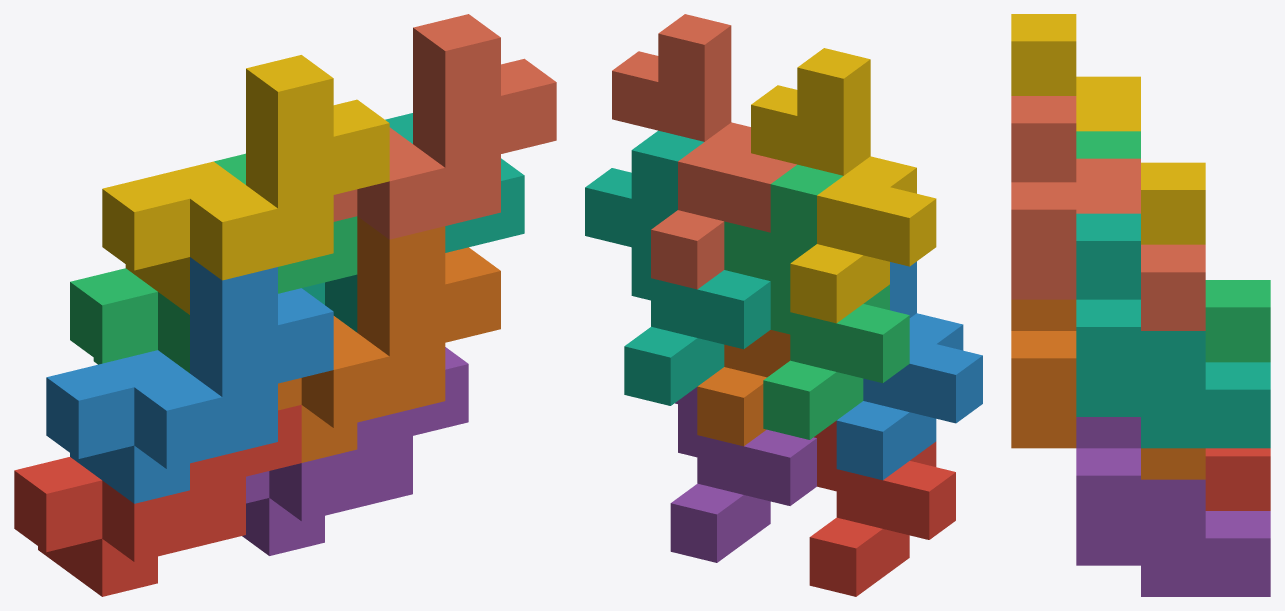
The model's file is tiling.obj.
3 renders of one model, left to right at view 1: azimuth 30°, elevation 25°; view 2: azimuth 150°, elevation 25°; view 3: azimuth 270°, elevation 25°, orthographic. The views are drawn at different scales.
Visible parts, largest first — view 1: copy_1_domain_2, copy_1_domain_4, copy_1_domain_6, copy_1_domain_8, copy_1_domain_1, copy_1_domain_5, copy_1_domain_3, copy_1_domain_7; view 2: copy_1_domain_4, copy_1_domain_8, copy_1_domain_7, copy_1_domain_3, copy_1_domain_2, copy_1_domain_1, copy_1_domain_5, copy_1_domain_6; view 3: copy_1_domain_7, copy_1_domain_5, copy_1_domain_8, copy_1_domain_4, copy_1_domain_6, copy_1_domain_3, copy_1_domain_1.
Boxes of the visible parts, x1,y1,x2,y2 form: copy_1_domain_2: [46, 257, 333, 503]; copy_1_domain_4: [102, 55, 389, 314]; copy_1_domain_6: [278, 216, 500, 462]; copy_1_domain_8: [333, 14, 556, 239]; copy_1_domain_1: [14, 405, 301, 596]; copy_1_domain_5: [242, 347, 468, 555]; copy_1_domain_3: [70, 153, 357, 373]; copy_1_domain_7: [302, 113, 524, 332]; copy_1_domain_4: [751, 48, 936, 323]; copy_1_domain_8: [612, 14, 796, 289]; copy_1_domain_7: [585, 130, 770, 405]; copy_1_domain_3: [724, 164, 909, 439]; copy_1_domain_2: [836, 261, 982, 480]; copy_1_domain_1: [809, 420, 955, 596]; copy_1_domain_5: [670, 387, 816, 562]; copy_1_domain_6: [697, 330, 790, 446]; copy_1_domain_7: [1076, 213, 1270, 448]; copy_1_domain_5: [1076, 417, 1270, 596]; copy_1_domain_8: [1011, 96, 1205, 330]; copy_1_domain_4: [1011, 14, 1205, 244]; copy_1_domain_6: [1011, 299, 1205, 479]; copy_1_domain_3: [1076, 131, 1270, 362]; copy_1_domain_1: [1205, 448, 1270, 510].
Bounding box in the file's own units: 8 × 9 × 4.
